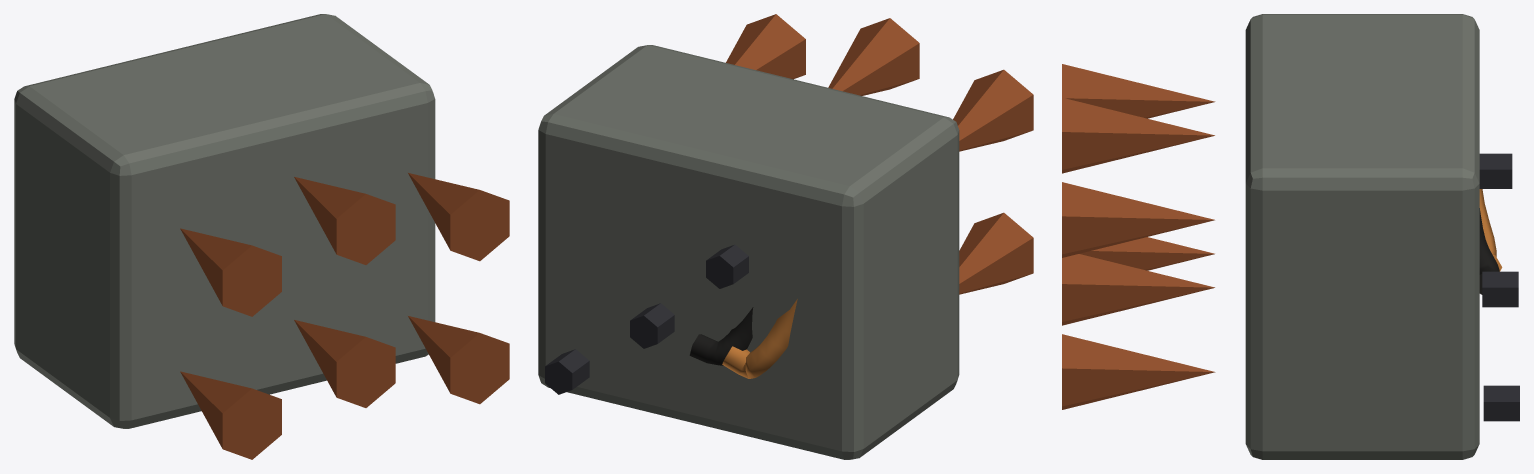
Rendered from mo_spikes.glb.
3 views of the same model, side by side, from view 1: azimuth 30°, elevation 25°; view 2: azimuth 150°, elevation 25°; view 3: azimuth 270°, elevation 25° (orthographic). The views are drawn at different scales.
Parts seen in each view (by area): view 1: mo_spikes; view 2: mo_spikes; view 3: mo_spikes.
Part boxes in pixels (x1,y1,x2,y2): mo_spikes: (14,14,509,459); mo_spikes: (538,14,1033,459); mo_spikes: (1062,14,1519,459).
Bounding box in the file's own units: 0.1222 × 0.0988 × 0.1408.
